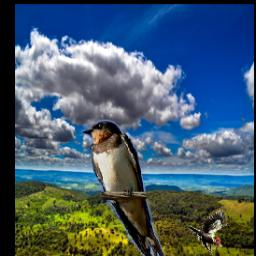Swallow: (81, 120, 166, 256)
Woodpecker: (188, 209, 228, 255)
